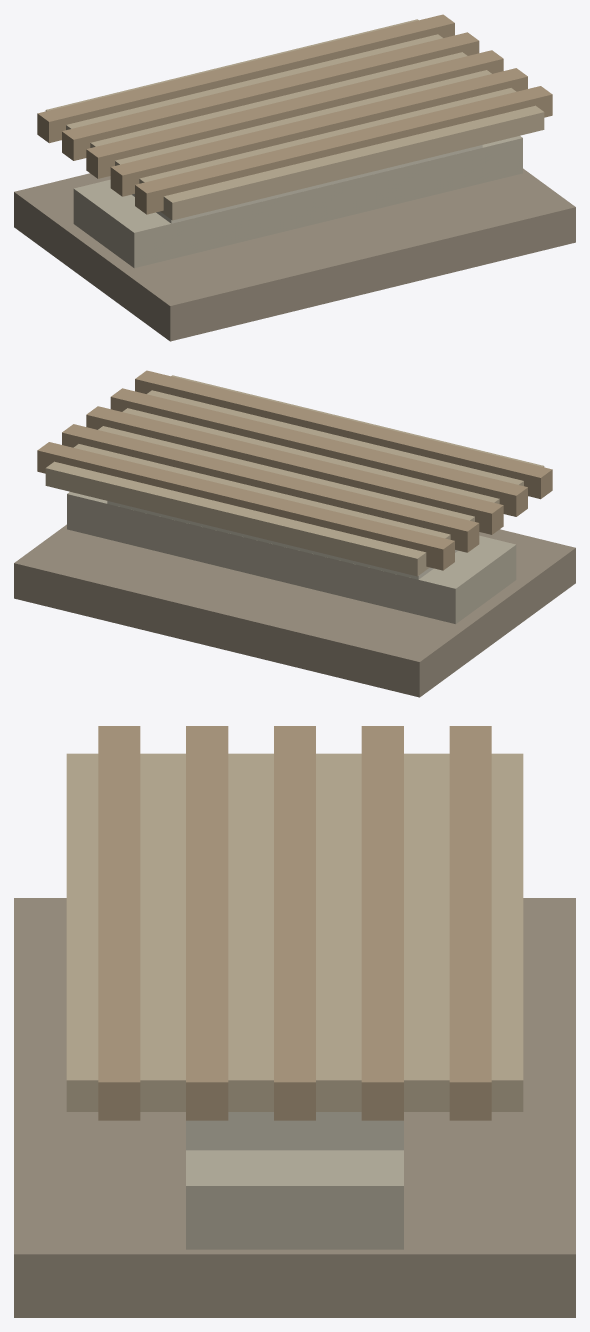
File: trench-line-1917-splinter-proof-shelter-03dfe62c__24062.glb
The picture shows the model from 3 angles, top to bottom: view 1: azimuth 30°, elevation 25°; view 2: azimuth 150°, elevation 25°; view 3: azimuth 270°, elevation 25°; orthographic projection. The views are drawn at different scales.
Visible parts, largest first — view 1: splinter-proof-shelter; view 2: splinter-proof-shelter; view 3: splinter-proof-shelter.
Part boxes in pixels (x1,y1,x2,y2): splinter-proof-shelter: (14,14,575,341); splinter-proof-shelter: (14,370,575,697); splinter-proof-shelter: (14,726,575,1317).
Size of the model in its own units: 2.4 by 0.7401 by 1.6.
